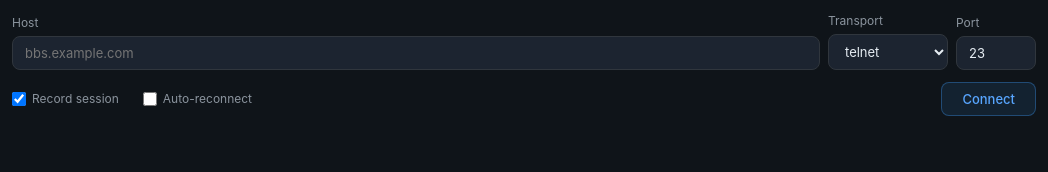
Scenario: connect workflow › builds a local shell request without host fields
This screenshot has width=1048, height=172.
Step 1. Select "shell" in the dropdown → (888, 52), box [828,34,948,70]
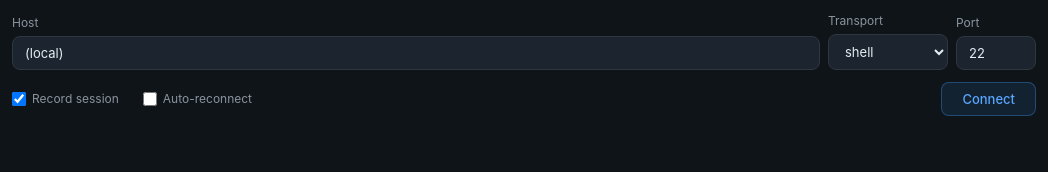
Step 2. Click the button "Connect" → (989, 99), box [941,82,1036,116]
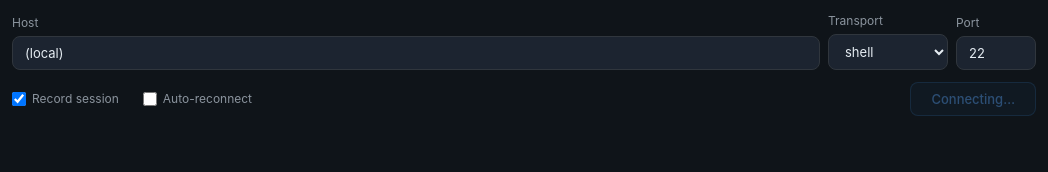
Expected: the button "Connecting…" is disabled, [910,82,1036,116]
